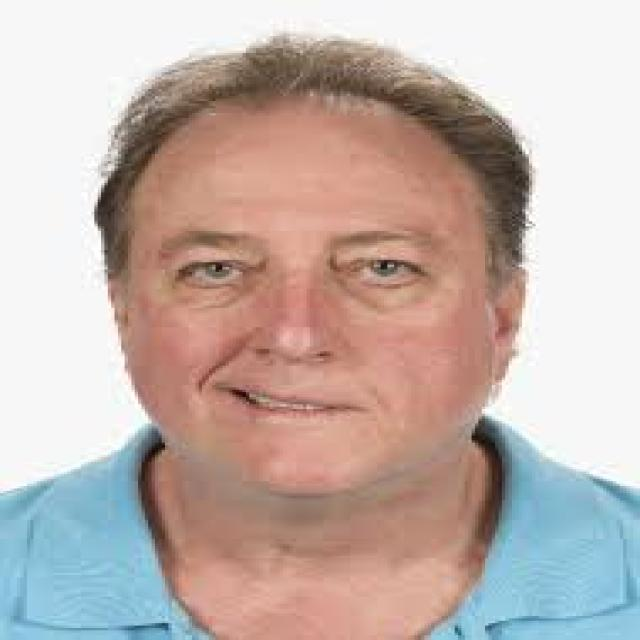stroke_face: (113, 45, 523, 495)
